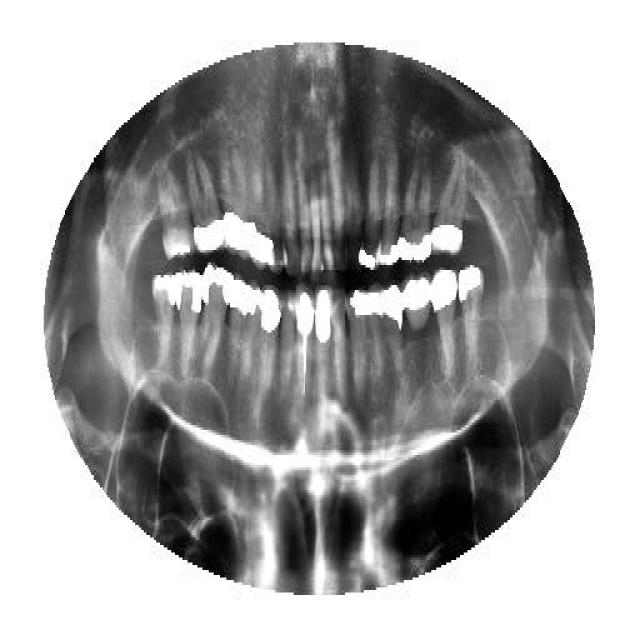Fillings: (396, 160, 432, 262), (219, 145, 249, 263), (432, 160, 468, 258), (189, 148, 221, 252), (456, 265, 485, 373), (202, 268, 232, 372), (375, 152, 401, 268), (432, 268, 458, 380), (356, 155, 380, 275), (174, 270, 202, 372), (400, 278, 432, 360), (149, 275, 175, 373), (249, 158, 269, 278), (344, 287, 366, 395), (378, 282, 402, 380), (232, 282, 252, 388), (314, 285, 331, 395), (261, 290, 280, 385), (366, 288, 380, 372)
Implant: (294, 285, 314, 400)
